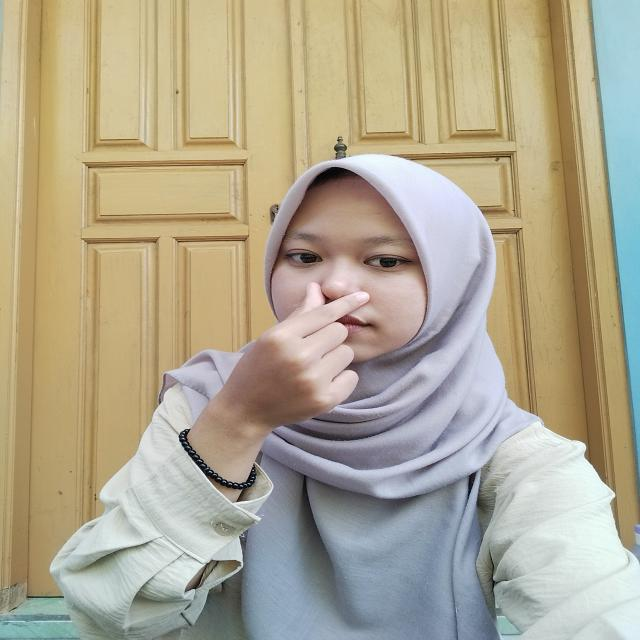bau: (229, 266, 404, 438)
